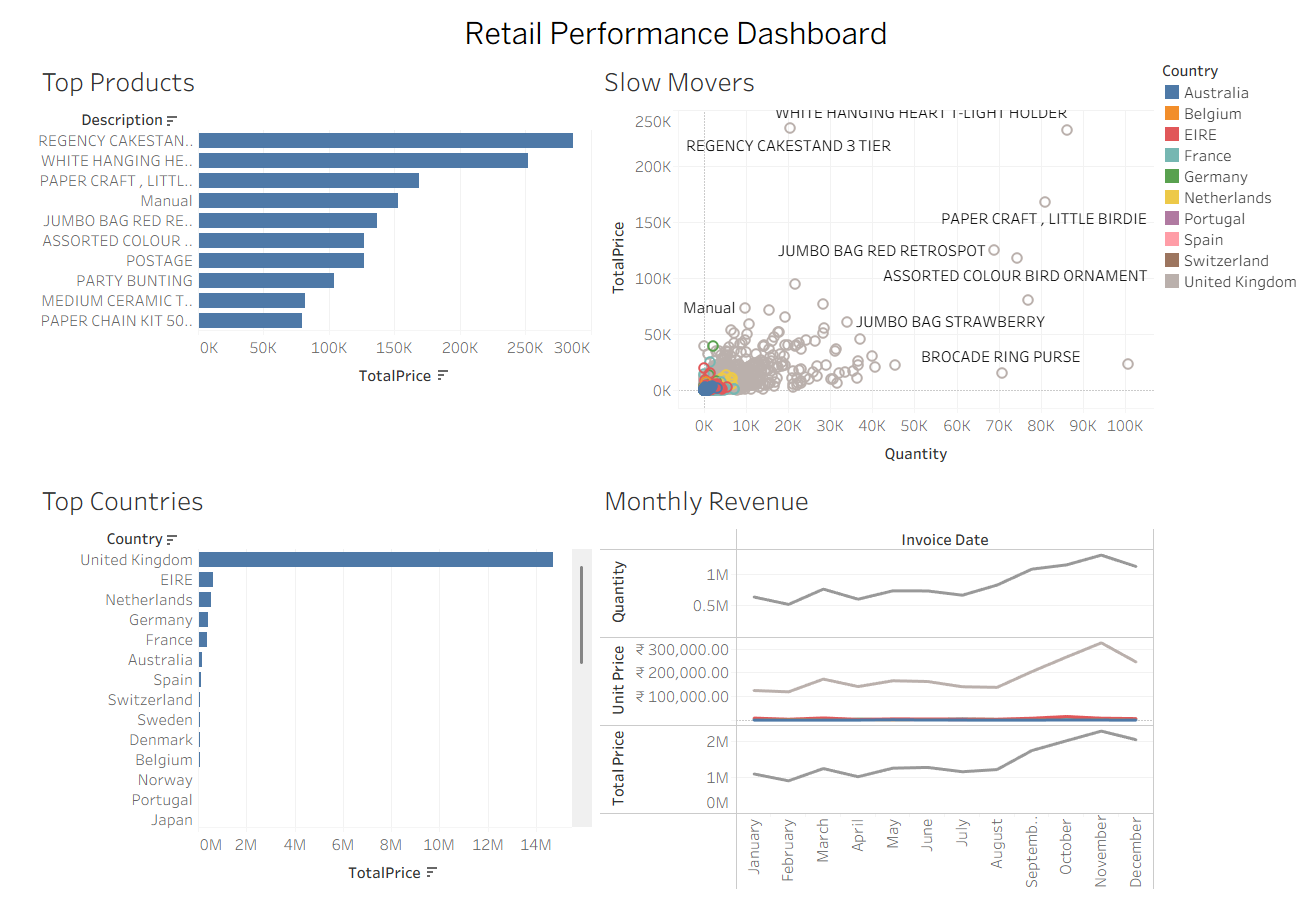

What the dashboard file says about the page in this screenshot:
{"tool":"tableau","page":{"name":"Dashboard 1","canvas":[1300,900],"ordinal":0},"visuals":[{"type":"title","box":[8,8,1284,46]},{"type":"worksheet","title":"Top Products","mark":"Automatic","rows":["Description"],"cols":["Calculation_615867278729379840"],"box":[8,54,562,419]},{"type":"worksheet","title":"Slow Movers","mark":"Automatic","rows":["Calculation_615867278729379840"],"cols":["Quantity"],"box":[570,54,562,419]},{"type":"legend","title":"Slow Movers","param":"[federated.0ewctdh1h8wqs21bonzrv1g7zziq].[none:Country:nk]","box":[1132,54,160,240]},{"type":"worksheet","title":"Top Countries","mark":"Bar","rows":["Country"],"cols":["Calculation_615867278729379840"],"box":[8,473,562,419]},{"type":"worksheet","title":"Monthly Revenue","mark":"Automatic","rows":["Quantity","UnitPrice","TotalPrice"],"cols":["InvoiceDate"],"box":[570,473,562,419]}]}

Visuals, with their boxes in screenshot pixels (x1, y1, x2, y2), scaled from the page's 1300x900 canvas onto the 1302x907 screenshot:
title: locate(8, 8, 1294, 54)
"Top Products" worksheet: locate(8, 54, 571, 477)
"Slow Movers" worksheet: locate(571, 54, 1134, 477)
"Slow Movers" legend: locate(1134, 54, 1294, 296)
"Top Countries" worksheet (Bar marks): locate(8, 477, 571, 899)
"Monthly Revenue" worksheet: locate(571, 477, 1134, 899)
